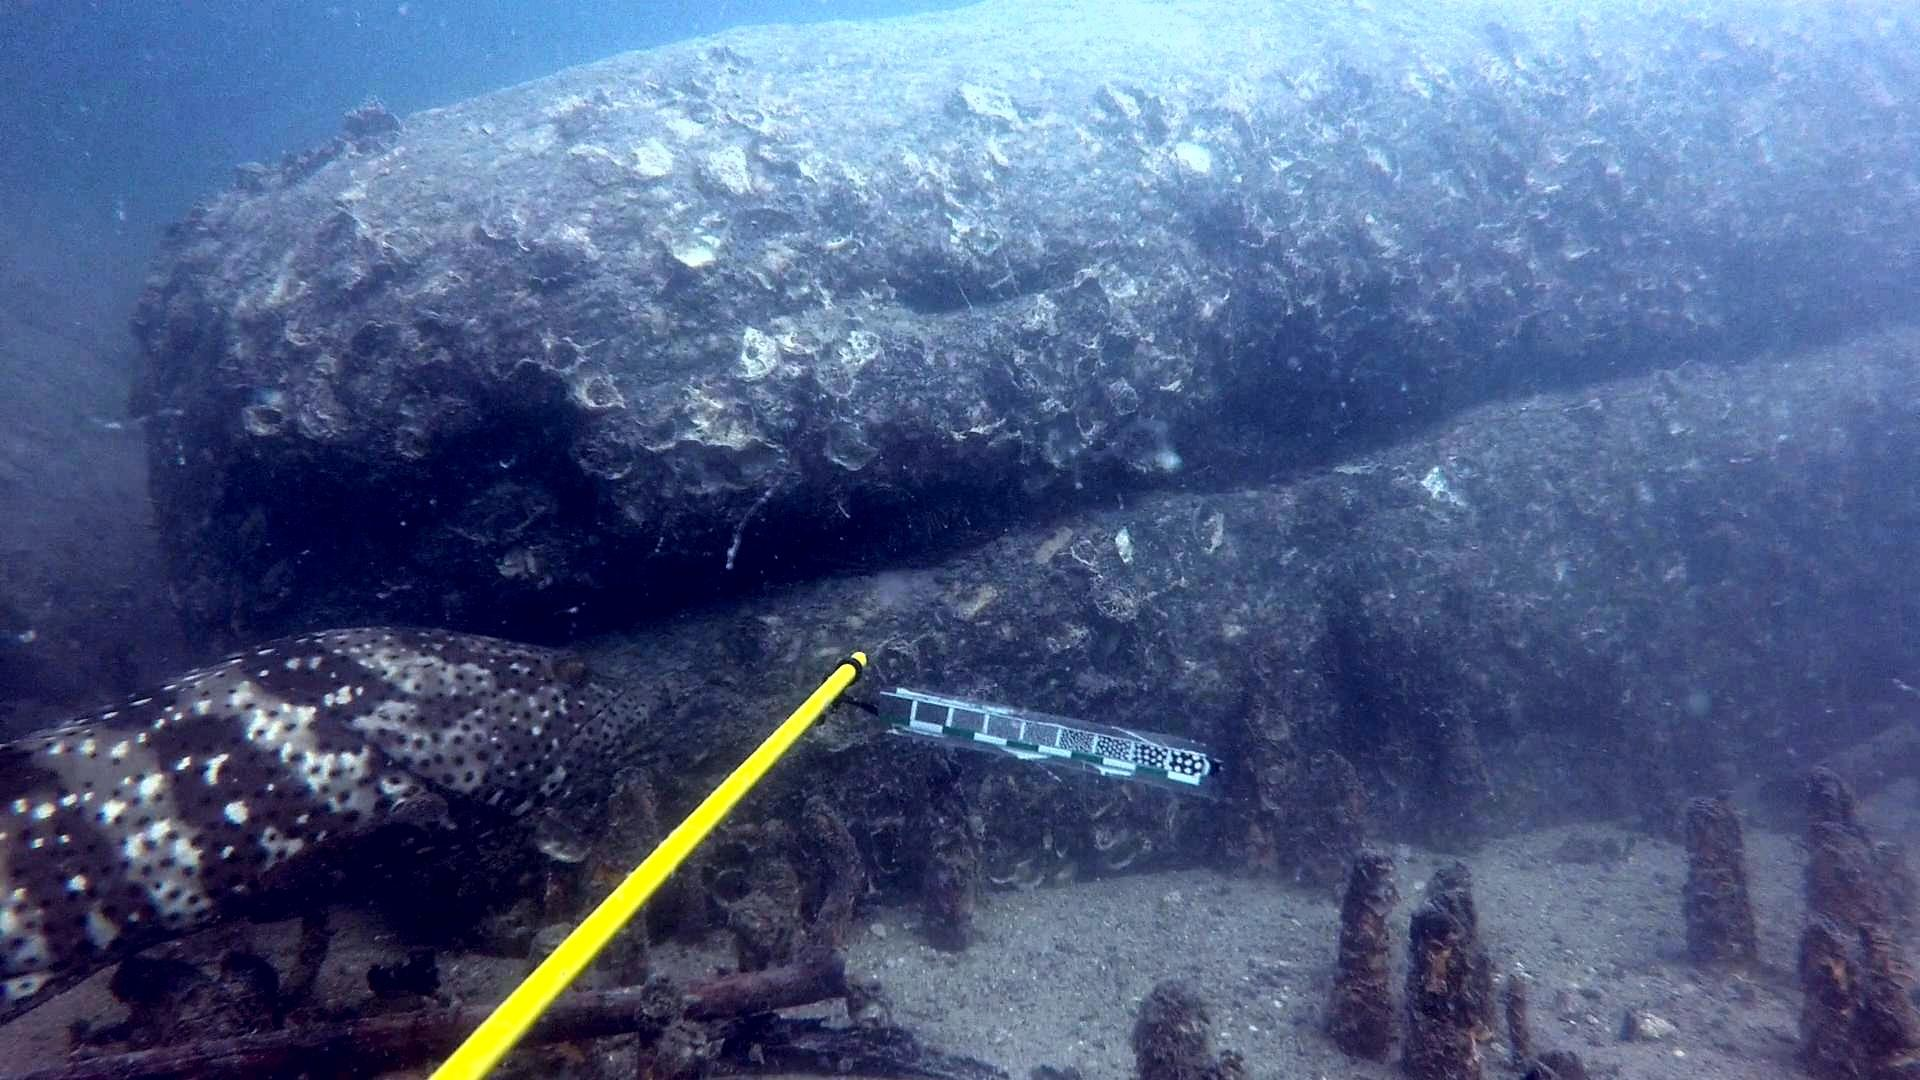epinephelus: (0, 618, 665, 1039)
